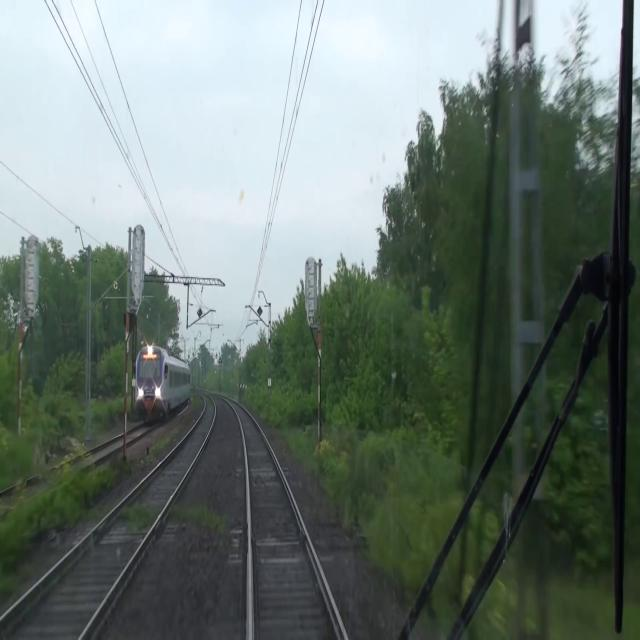rail-track: (0, 399, 213, 639), (236, 407, 343, 639), (0, 472, 55, 511), (94, 437, 122, 456)
